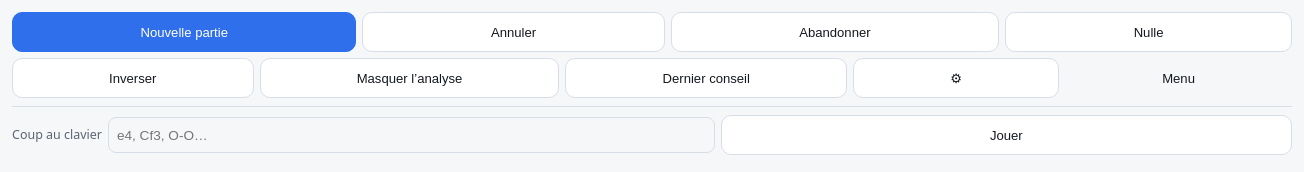
commandes de partie › signale un coup illegal saisi au clavier
Type "zz9" into the field labelled "Coup au clavier" at (411, 135), box [108,117,714,153]
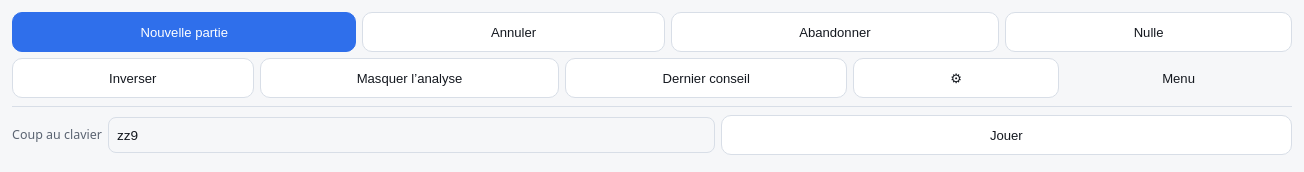
Click the button "Jouer" at (1006, 135), box [721,115,1292,155]
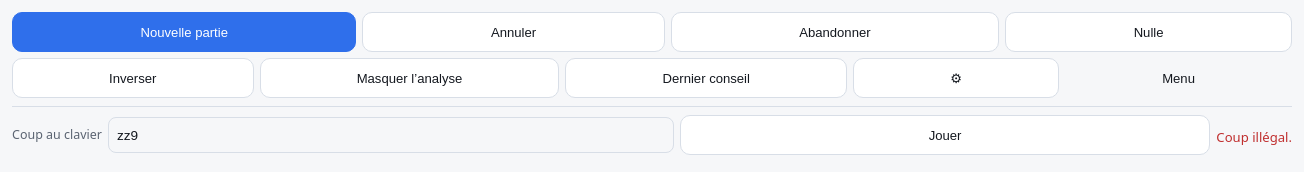
Result: the message reads "Coup illégal." at [1216,128,1292,146]
